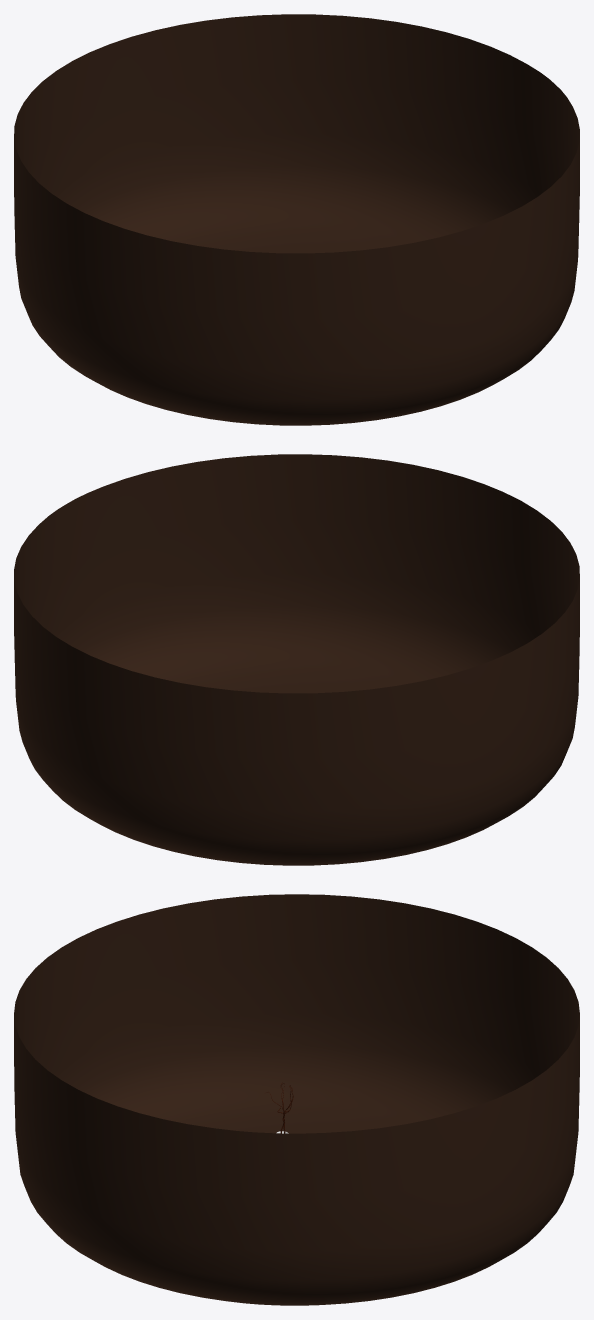
Rendered from candles.glb.
3 renders of one model, top to bottom at view 1: azimuth 30°, elevation 25°; view 2: azimuth 150°, elevation 25°; view 3: azimuth 270°, elevation 25°, orthographic.
Visible parts, largest first — view 1: Circle.001; view 2: Circle.001; view 3: Circle.001.
Boxes of the visible parts, x1,y1,x2,y2 form: Circle.001: (14,14,579,425); Circle.001: (14,454,579,865); Circle.001: (14,894,579,1305).
Bounding box in the file's own units: 41.81 × 16.11 × 41.78.
